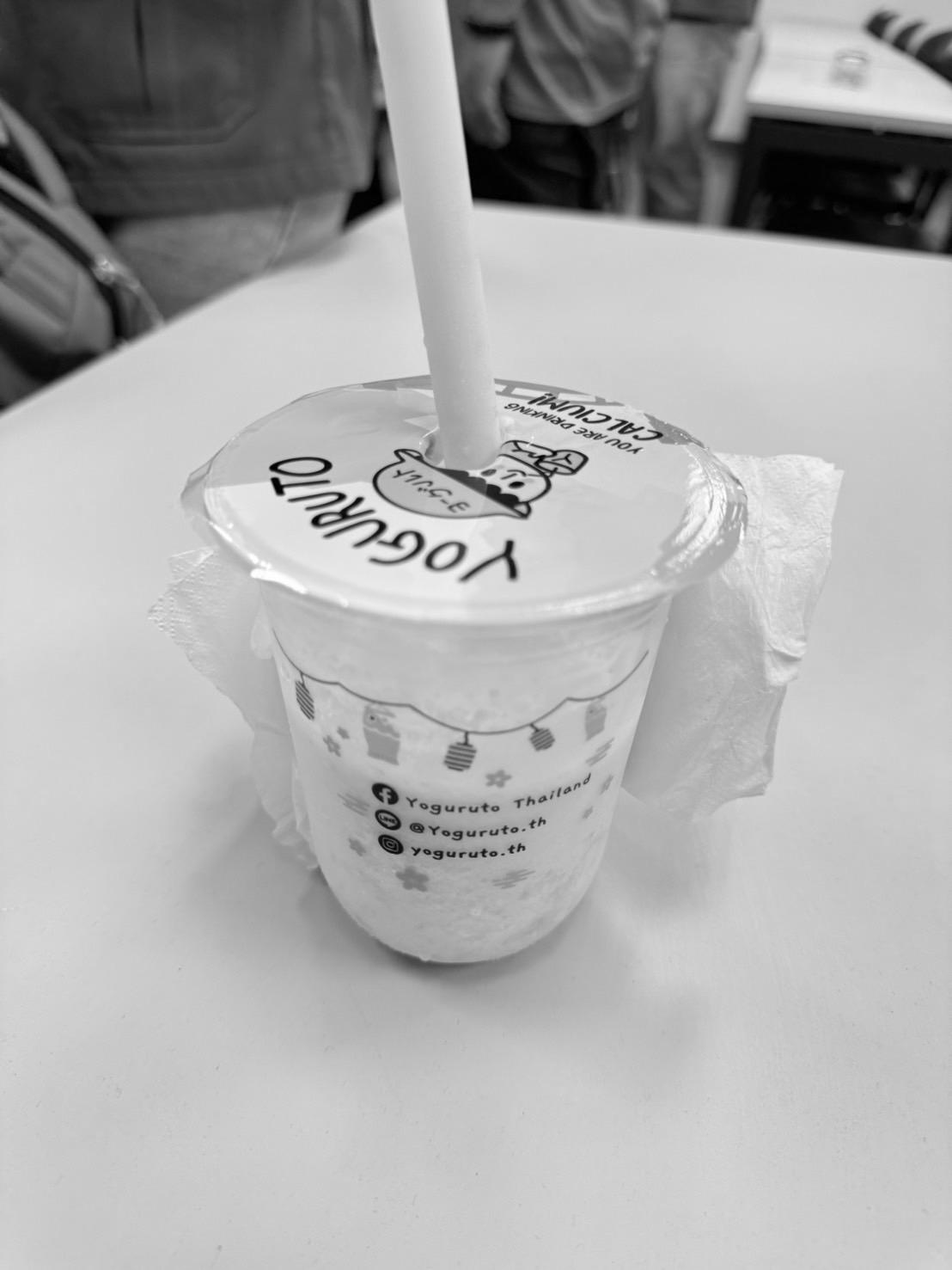glass: (157, 0, 826, 962)
